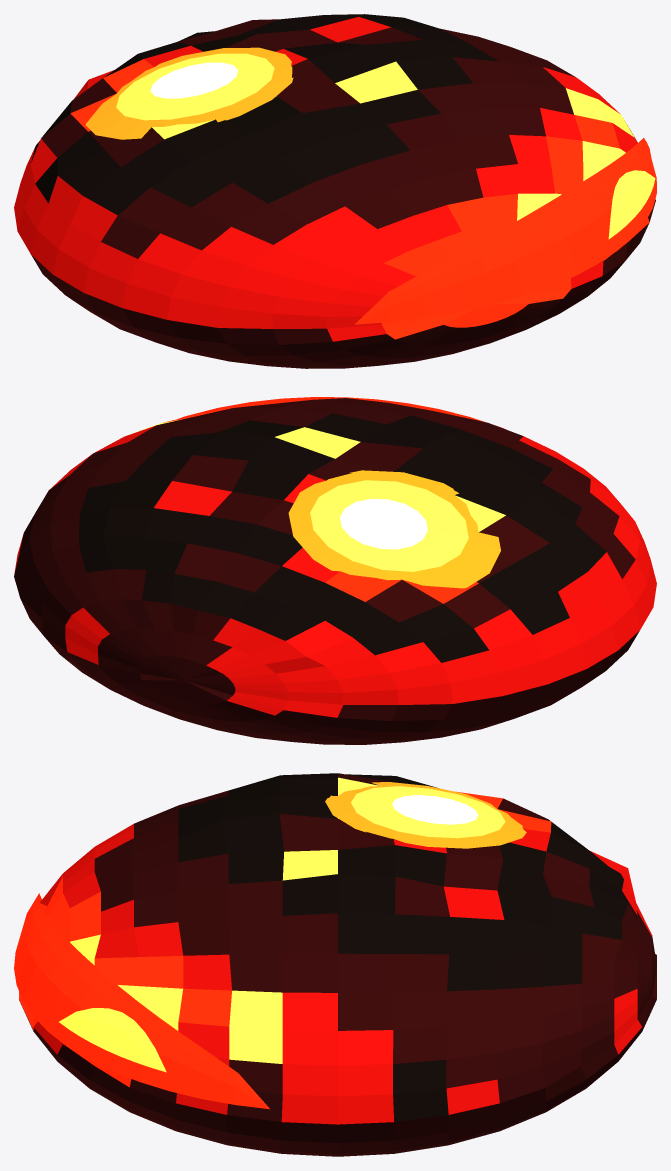
Rendered from newshe-233.glb.
The picture shows the model from 3 angles, top to bottom: view 1: azimuth 30°, elevation 25°; view 2: azimuth 150°, elevation 25°; view 3: azimuth 270°, elevation 25°; orthographic projection. The views are drawn at different scales.
Visible parts, largest first — view 1: newshe-233; view 2: newshe-233; view 3: newshe-233.
Part boxes in pixels (x1,y1,x2,y2): newshe-233: (14,14,656,368); newshe-233: (14,397,656,744); newshe-233: (14,773,656,1156).
Size of the model in its own units: 1.33 by 0.5238 by 1.24.
